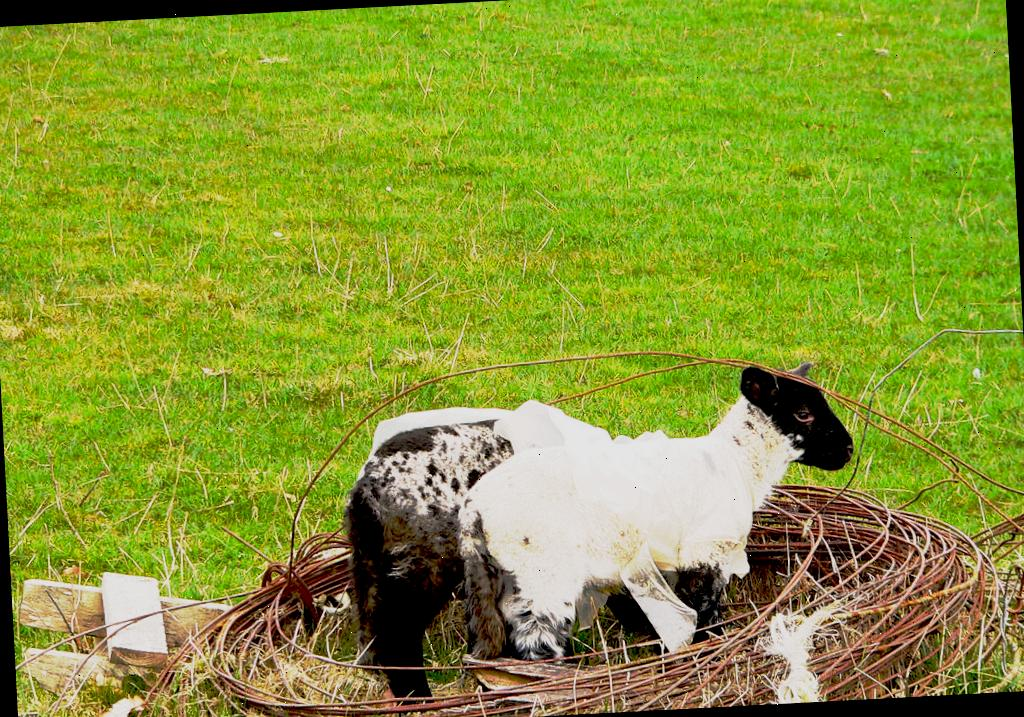Sheep: (455, 360, 871, 672), (340, 409, 730, 717)
